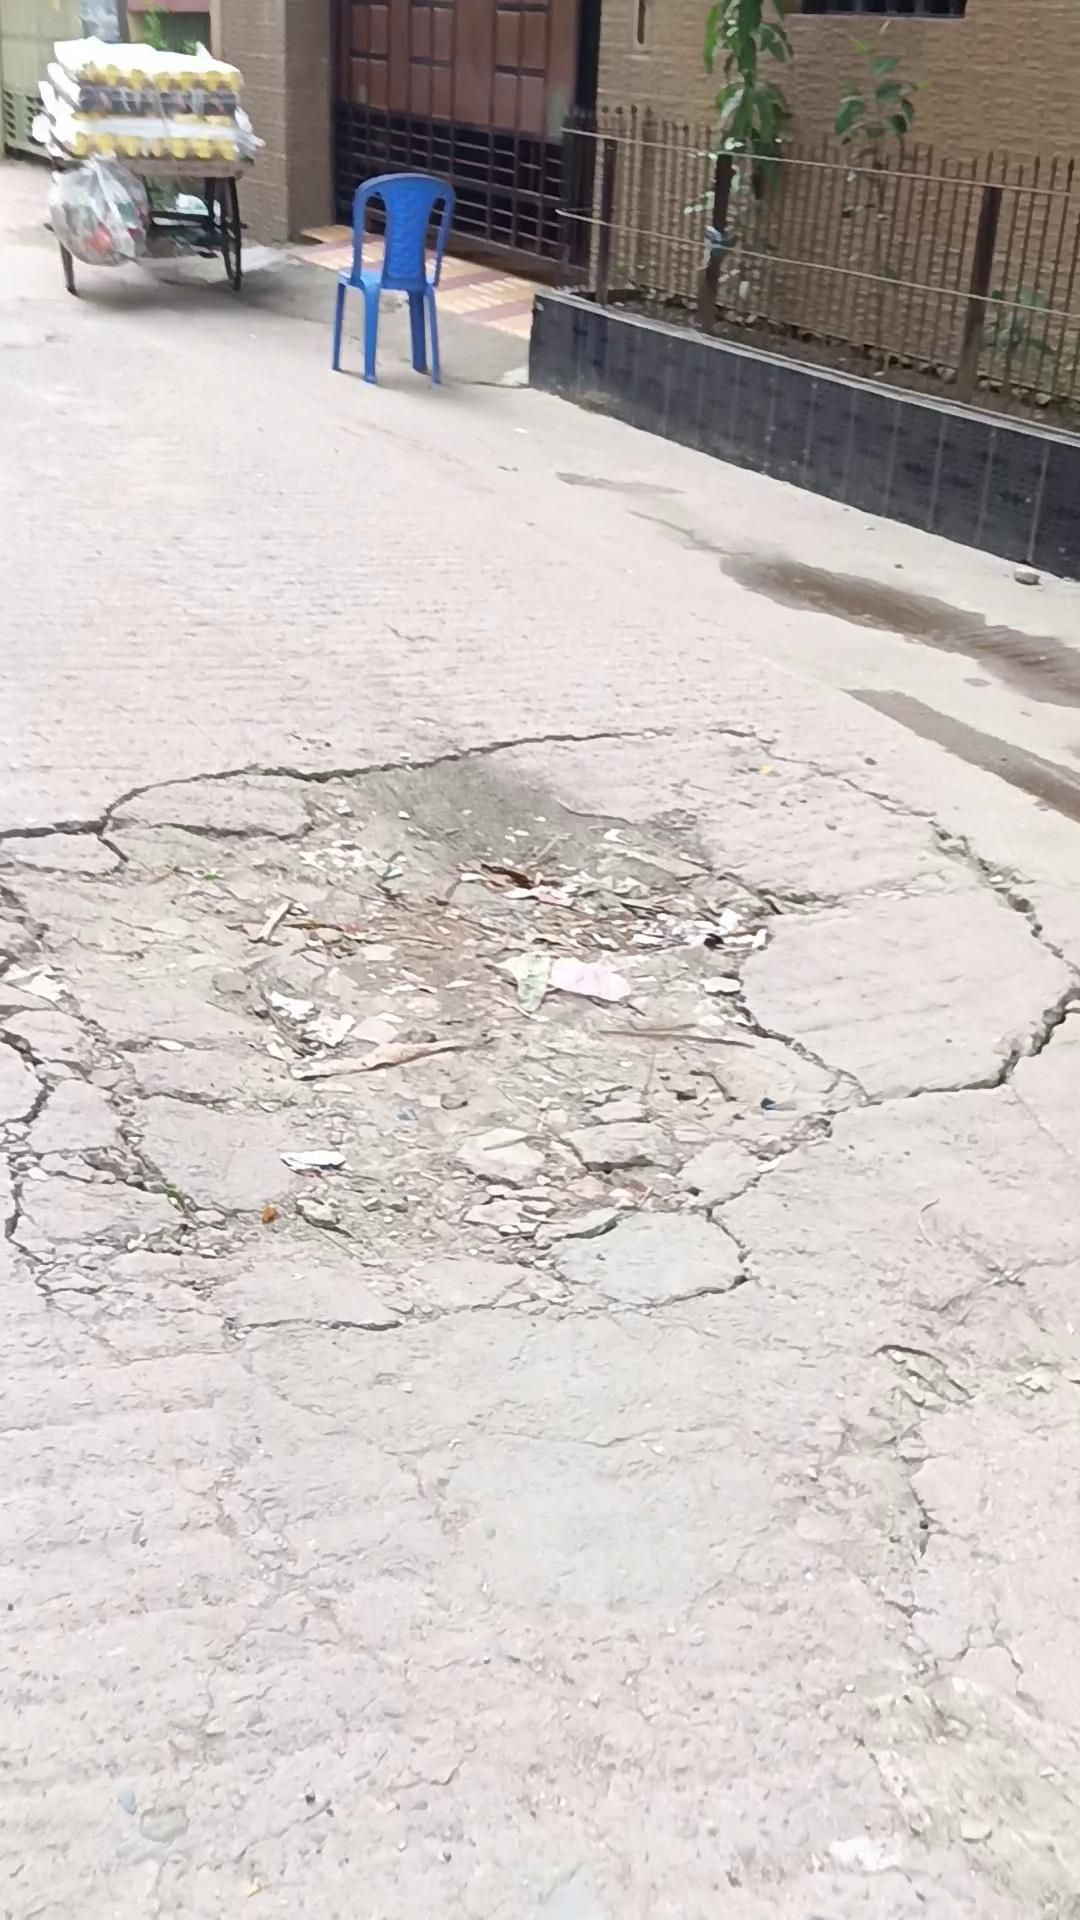Broken-road: (0, 336, 1080, 1920)
Crosswalk: (524, 284, 1077, 582)
Motorcycle: (311, 146, 475, 397)
Pothole: (33, 36, 262, 297)
